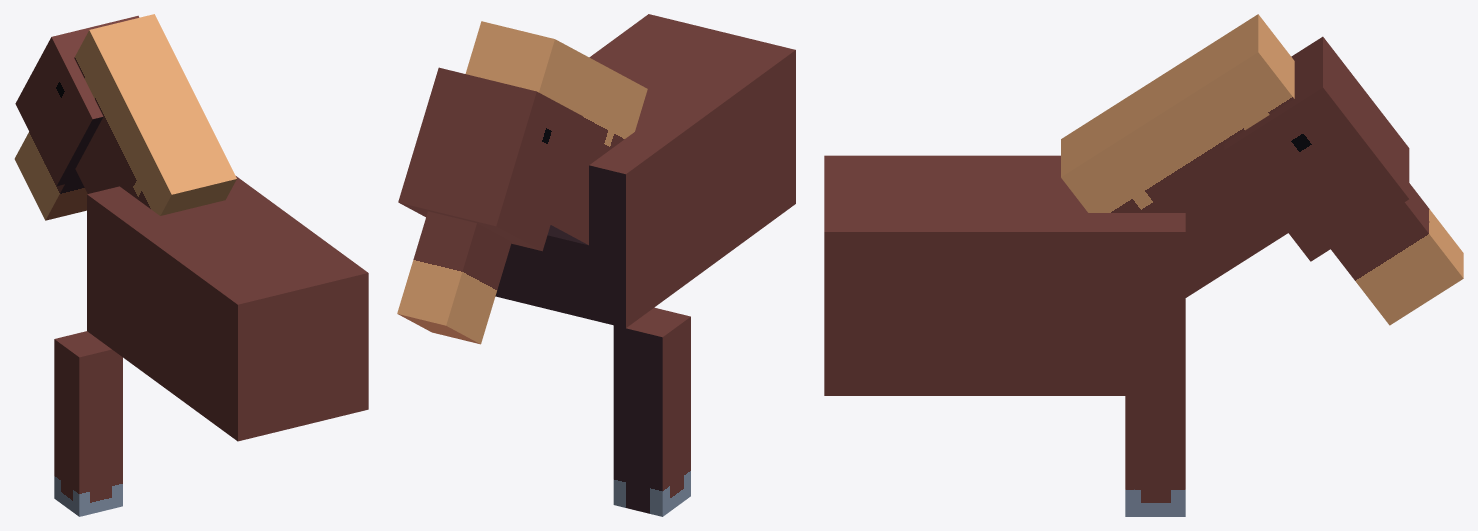
File: Horse.gltf
3 renders of one model, left to right at view 1: azimuth 30°, elevation 25°; view 2: azimuth 150°, elevation 25°; view 3: azimuth 270°, elevation 25°, orthographic. The views are drawn at different scales.
Visible parts, largest first — view 1: Horse, Leg; view 2: Horse, Leg; view 3: Horse, Leg.
Boxes of the visible parts, x1,y1,x2,y2 form: Horse: [14, 14, 368, 441]; Leg: [54, 331, 122, 516]; Horse: [397, 14, 795, 344]; Leg: [613, 307, 690, 516]; Horse: [824, 14, 1463, 395]; Leg: [1125, 396, 1185, 516].
Size of the model in its own units: 0.9375 by 2.36 by 2.65.
Materials: 1 (1 with a texture image).
